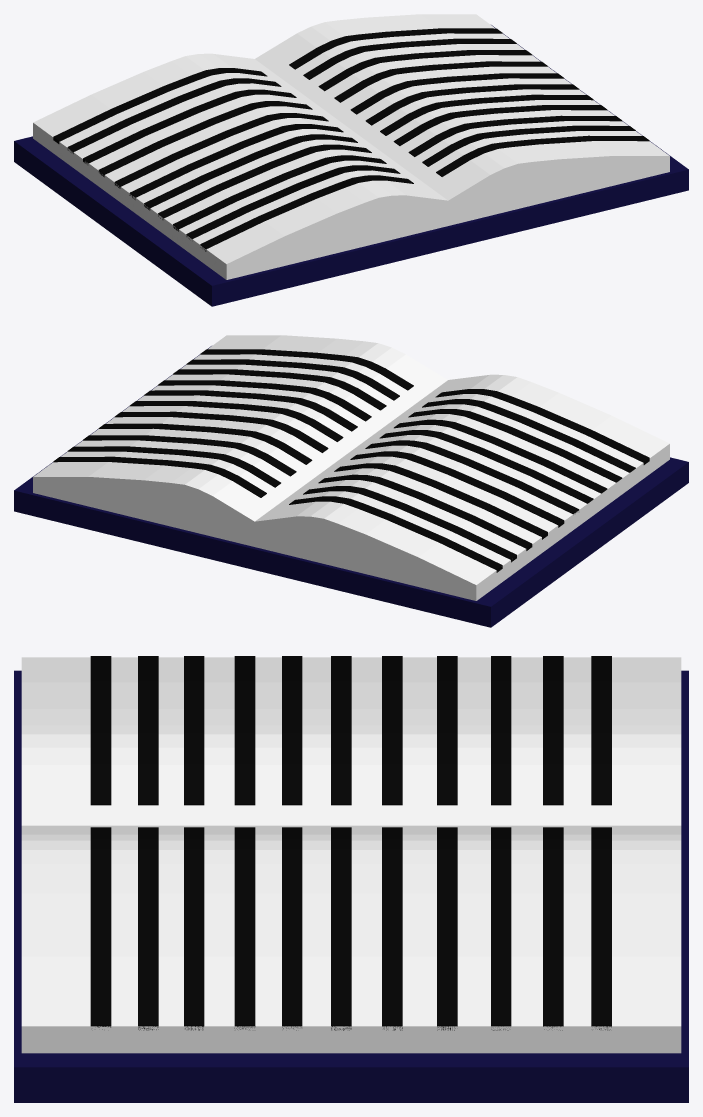
File: Book.fbx
3 views of the same model, one above another, from view 1: azimuth 30°, elevation 25°; view 2: azimuth 150°, elevation 25°; view 3: azimuth 270°, elevation 25° (orthographic). The views are drawn at different scales.
Visible parts, largest first — view 1: Book; view 2: Book; view 3: Book.
Part boxes in pixels (x1,y1,x2,y2): Book: (14,14,688,306); Book: (14,335,688,627); Book: (14,656,688,1102).
Bounding box in the file's own units: 204 × 27.36 × 147.
